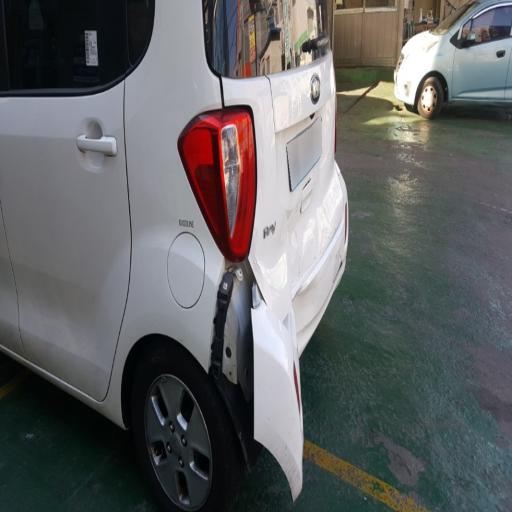broken: (184, 73, 300, 411)
dent: (304, 168, 352, 286)
